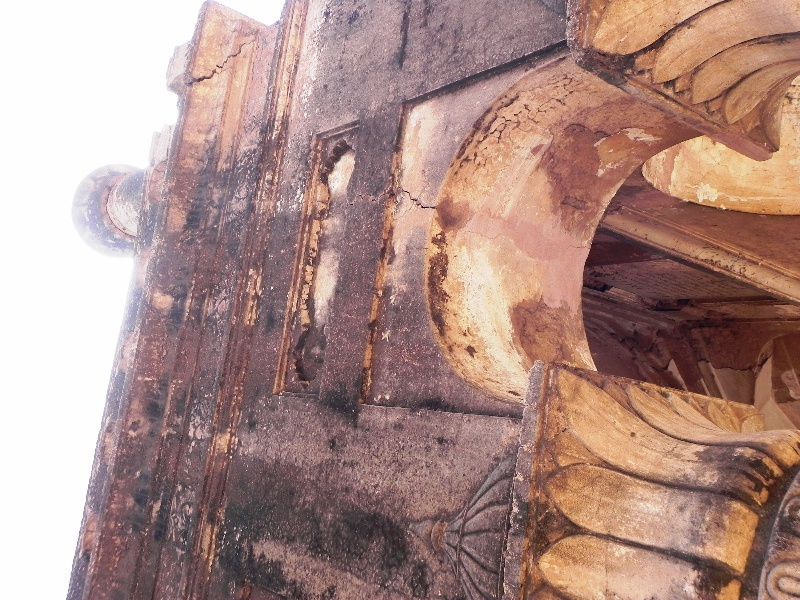Crack: (386, 181, 443, 215)
